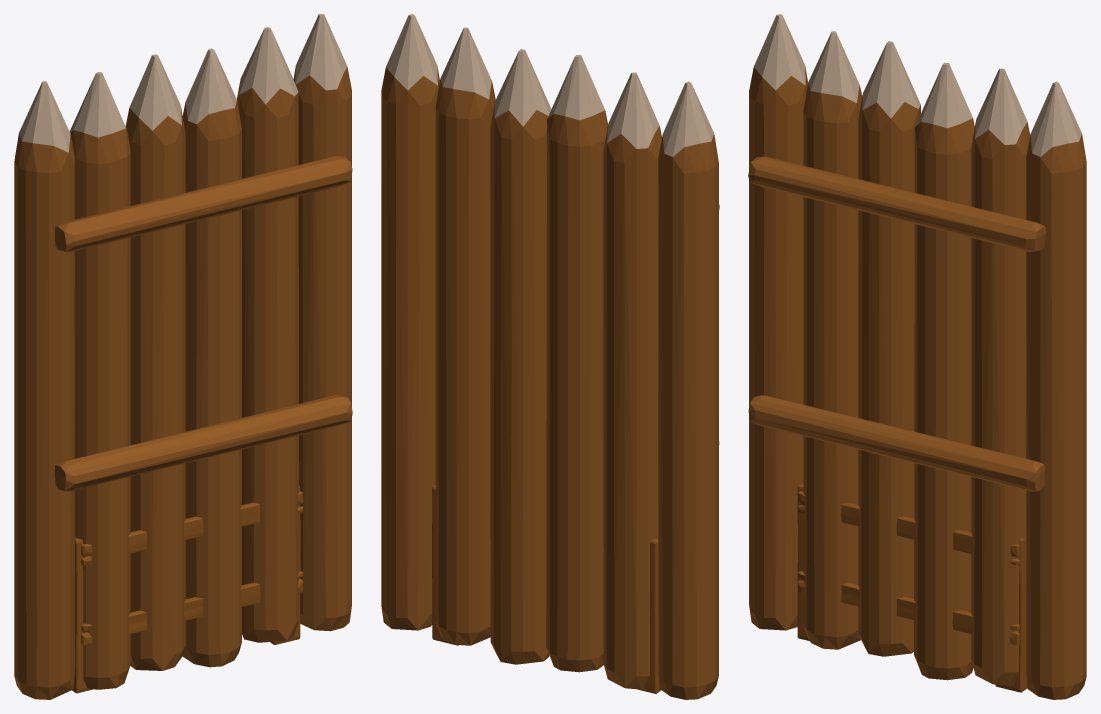
Rendered from WoodenFences.fbx.
The picture shows the model from 3 angles, left to right: view 1: azimuth 30°, elevation 25°; view 2: azimuth 150°, elevation 25°; view 3: azimuth 330°, elevation 25°; orthographic projection.
Visible parts, largest first — view 1: woodenFenceBig, WoodenFence; view 2: woodenFenceBig, WoodenFence; view 3: woodenFenceBig, WoodenFence.
Part boxes in pixels (x1,y1,x2,y2): woodenFenceBig: [14, 14, 352, 699]; WoodenFence: [72, 486, 303, 693]; woodenFenceBig: [381, 14, 719, 699]; WoodenFence: [432, 485, 660, 693]; woodenFenceBig: [748, 14, 1086, 699]; WoodenFence: [797, 483, 1027, 692].
Size of the model in its own units: 3.43 by 6.09 by 0.7852.
